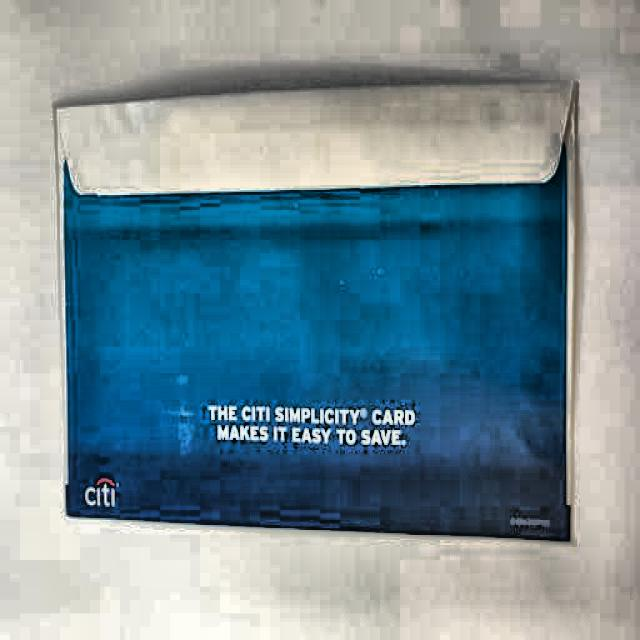paper: (43, 85, 578, 551)
